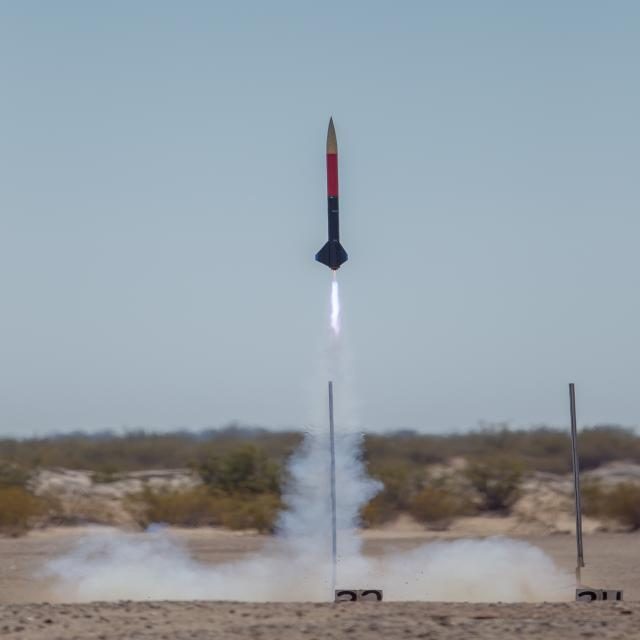Rocket: (315, 115, 349, 272)
